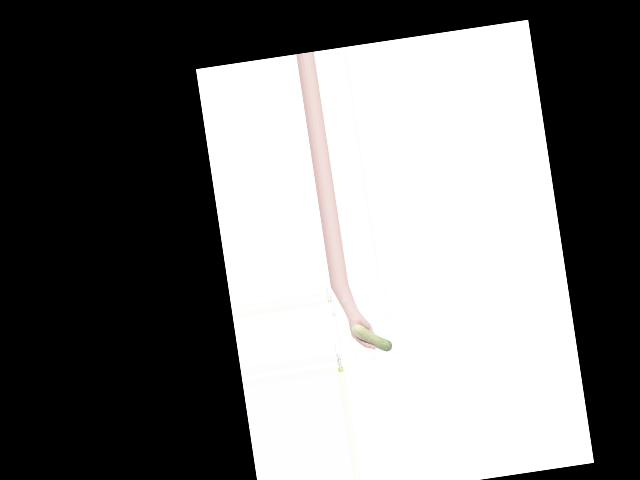cucumber: (351, 319, 392, 355)
